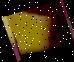scratch: (5, 0, 74, 61)
